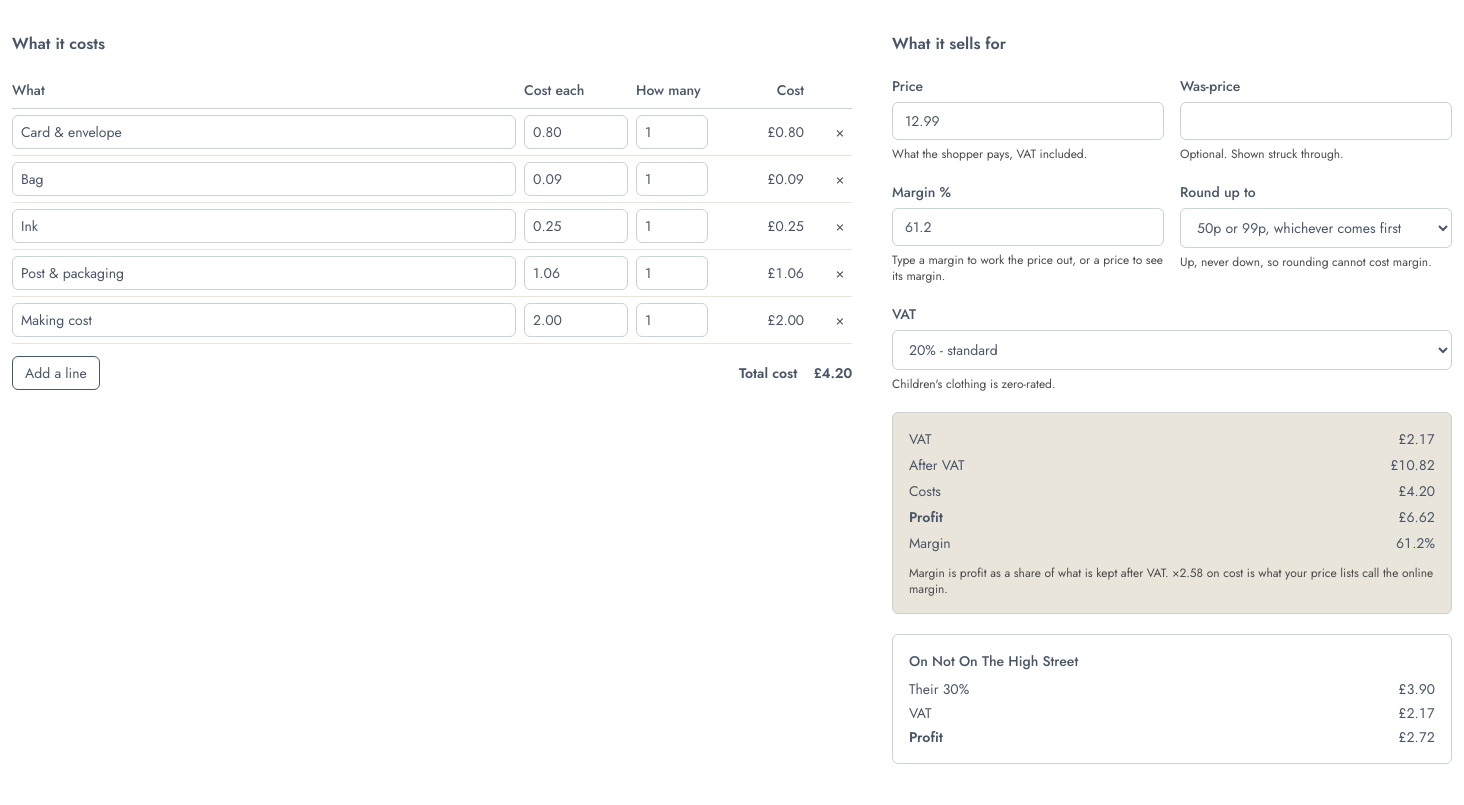
Test: PricingEditor › removes a line, and the cost follows
Click the button named "remove making cost" at (840, 320), box [828,306,852,334]
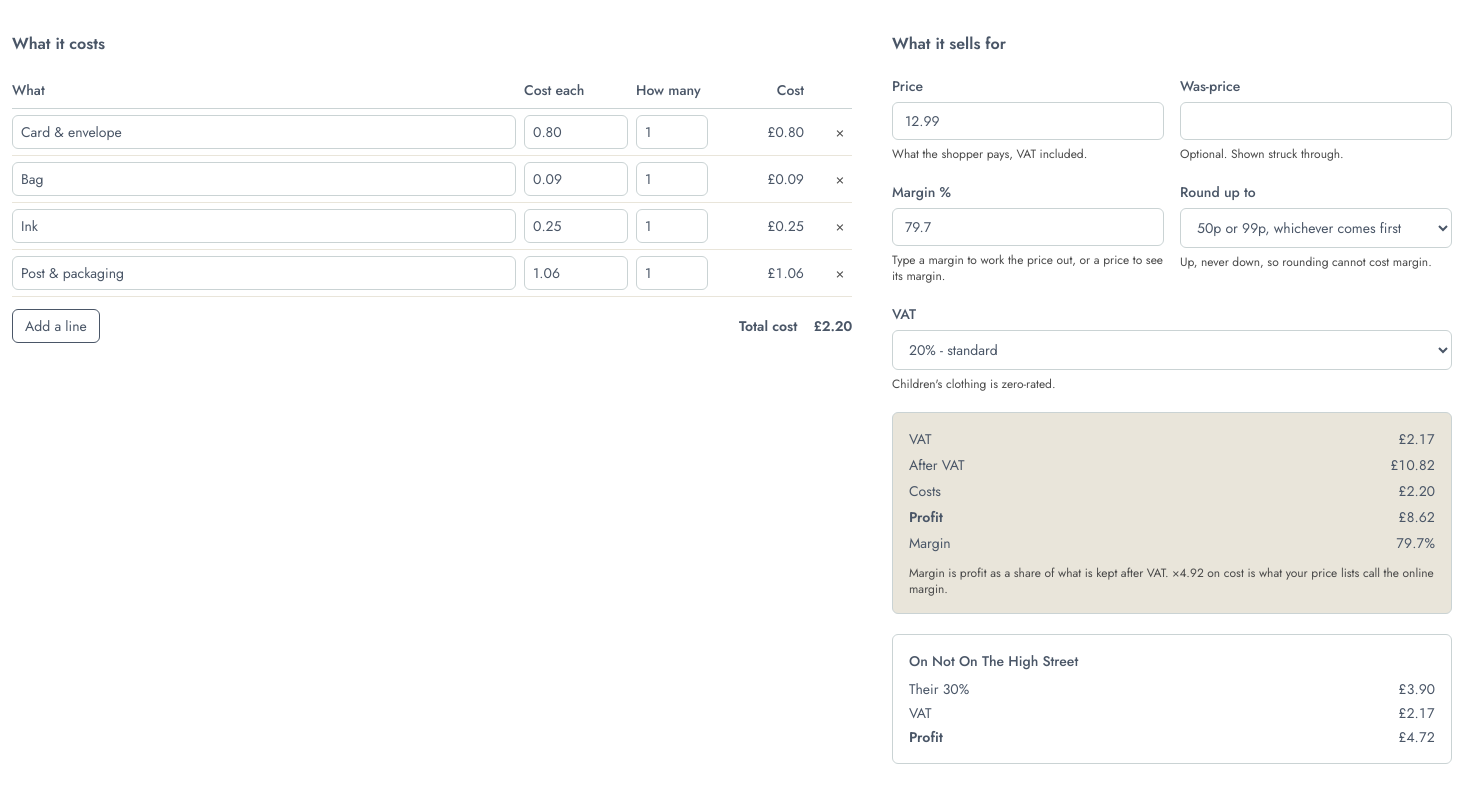
Now the text "£2.20" next to "Total cost" is shown, box [813,316,852,336]
